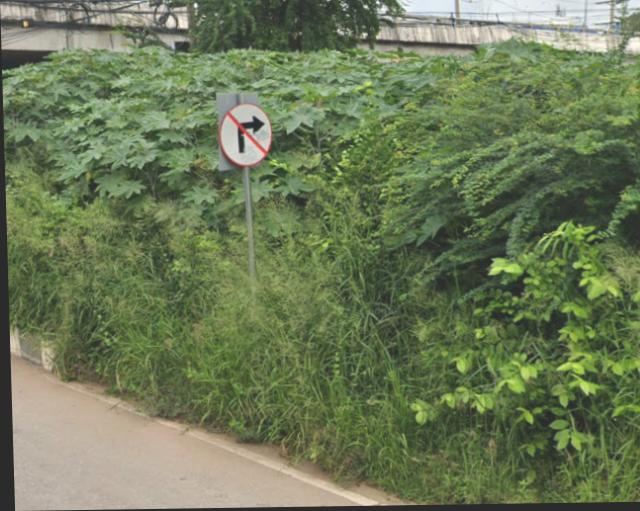not_turn_right: (216, 101, 277, 173)
